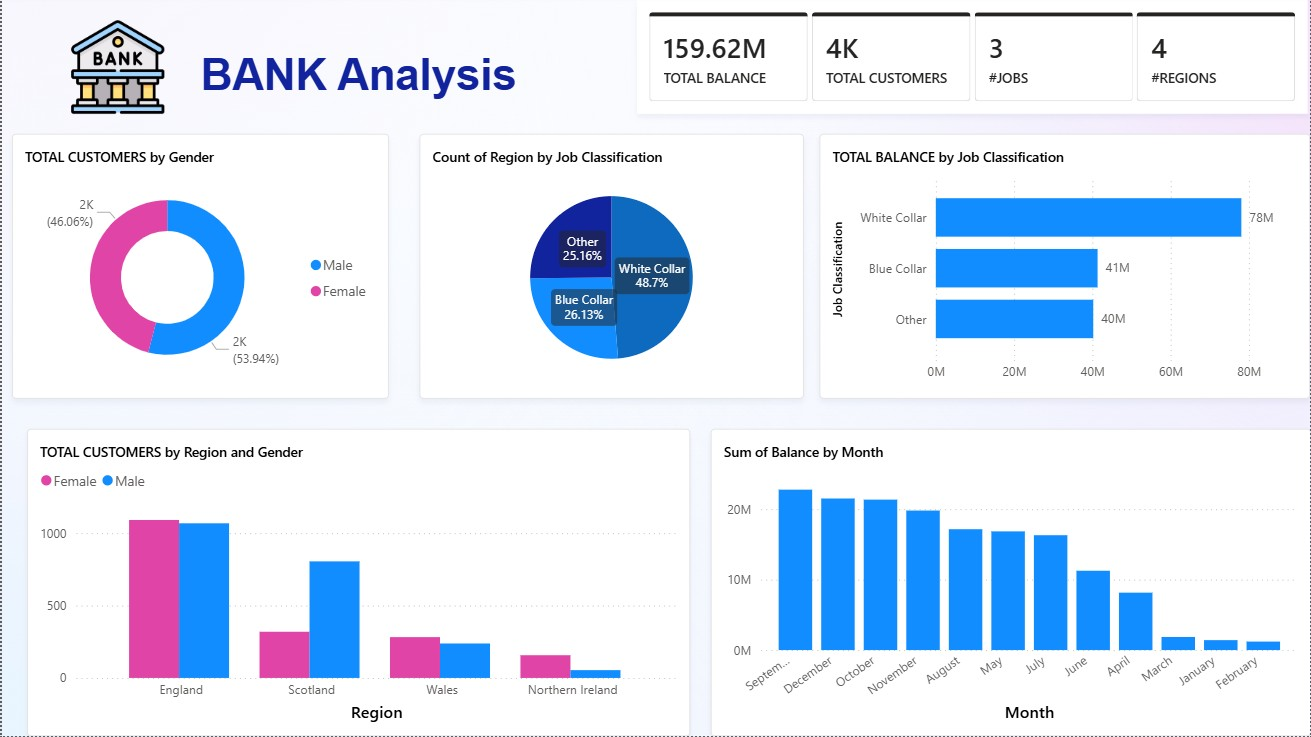

The page's visual inventory and layout, read from the dashboard file:
{"tool":"powerbi","page":{"name":"Page 1","canvas":[1280,720],"ordinal":0},"visuals":[{"type":"cardVisual","fields":{"Data":["6  P1-UK-Bank-Customers.TOTAL BALANCE","6  P1-UK-Bank-Customers.TOTAL CUSTOMERS","6  P1-UK-Bank-Customers.#JOBS","6  P1-UK-Bank-Customers.#REGIONS"]},"box":[621.6,0,658.7,111.1],"z":0},{"type":"clusteredColumnChart","fields":{"Y":["6  P1-UK-Bank-Customers.TOTAL CUSTOMERS"],"Category":["6  P1-UK-Bank-Customers.Region"],"Series":["6  P1-UK-Bank-Customers.Gender"]},"box":[24.7,419.9,649.1,300.5],"z":1000},{"type":"donutChart","fields":{"Category":["6  P1-UK-Bank-Customers.Gender"],"Y":["6  P1-UK-Bank-Customers.TOTAL CUSTOMERS"]},"box":[9.6,130.4,369.1,259.3],"z":2000},{"type":"barChart","fields":{"Category":["6  P1-UK-Bank-Customers.Job Classification"],"Y":["6  P1-UK-Bank-Customers.TOTAL BALANCE"]},"box":[800,130.4,480.3,259.3],"z":3000},{"type":"pieChart","fields":{"Y":["CountNonNull(6  P1-UK-Bank-Customers.Region)"],"Category":["6  P1-UK-Bank-Customers.Job Classification"]},"box":[408.9,130.4,376,259.3],"z":4000},{"type":"columnChart","fields":{"Category":["6  P1-UK-Bank-Customers.Month"],"Y":["Sum(6  P1-UK-Bank-Customers.Balance)"]},"box":[693,419.9,587.3,300.5],"z":5000},{"type":"image","box":[66,19.6,94.2,91.7],"z":6000},{"type":"textbox","box":[151.6,44,382.7,67.3],"z":7000}]}

Visuals, with their boxes in screenshot pixels (x1, y1, x2, y2), scaled from the page's 1280x720 canvas onto the 1311x737 screenshot:
cardVisual - 6  P1-UK-Bank-Customers.TOTAL BALANCE x 6  P1-UK-Bank-Customers.TOTAL CUSTOMERS: bbox=(637, 0, 1310, 114)
clusteredColumnChart - 6  P1-UK-Bank-Customers.TOTAL CUSTOMERS x 6  P1-UK-Bank-Customers.Region: bbox=(25, 430, 690, 736)
donutChart - 6  P1-UK-Bank-Customers.Gender x 6  P1-UK-Bank-Customers.TOTAL CUSTOMERS: bbox=(10, 133, 388, 399)
barChart - 6  P1-UK-Bank-Customers.Job Classification x 6  P1-UK-Bank-Customers.TOTAL BALANCE: bbox=(819, 133, 1310, 399)
pieChart - CountNonNull(6  P1-UK-Bank-Customers.Region) x 6  P1-UK-Bank-Customers.Job Classification: bbox=(419, 133, 804, 399)
columnChart - 6  P1-UK-Bank-Customers.Month x Sum(6  P1-UK-Bank-Customers.Balance): bbox=(710, 430, 1310, 736)
image: bbox=(68, 20, 164, 114)
textbox: bbox=(155, 45, 547, 114)
